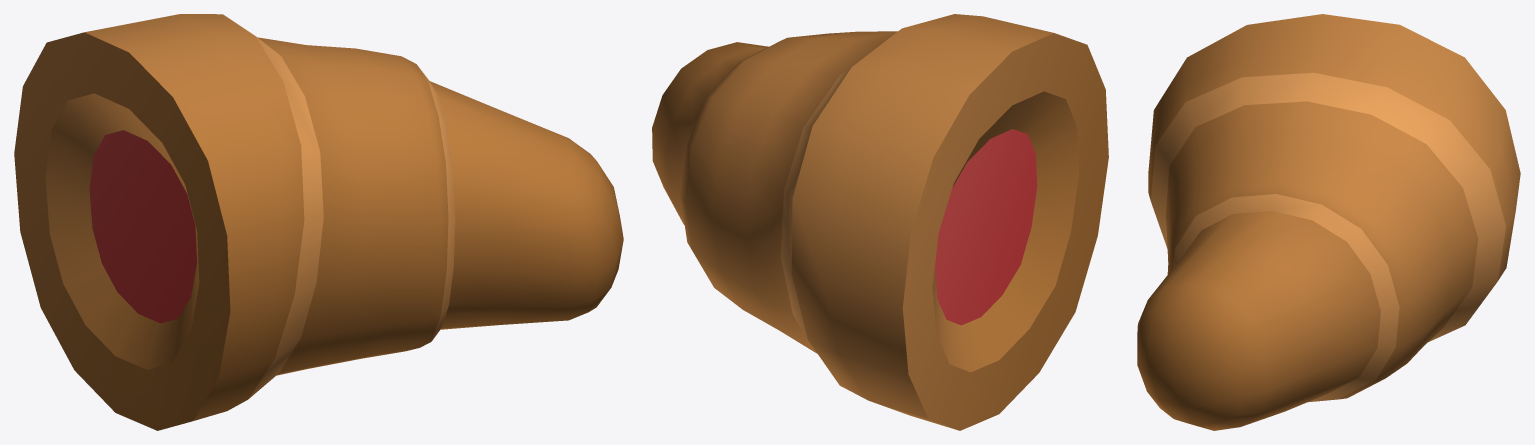
Rendered from Croissant Red_Half_2.fbx.
3 views of the same model, side by side, from view 1: azimuth 30°, elevation 25°; view 2: azimuth 150°, elevation 25°; view 3: azimuth 270°, elevation 25° (orthographic). The views are drawn at different scales.
Visible parts, largest first — view 1: Croissant Red_Half_2; view 2: Croissant Red_Half_2; view 3: Croissant Red_Half_2.
Part boxes in pixels (left/top/right/bottom): Croissant Red_Half_2: left=14, top=14, right=623, bottom=430; Croissant Red_Half_2: left=652, top=14, right=1108, bottom=430; Croissant Red_Half_2: left=1137, top=14, right=1520, bottom=430.
Bounding box in the file's own units: 0.0878 × 0.0733 × 0.0799.
